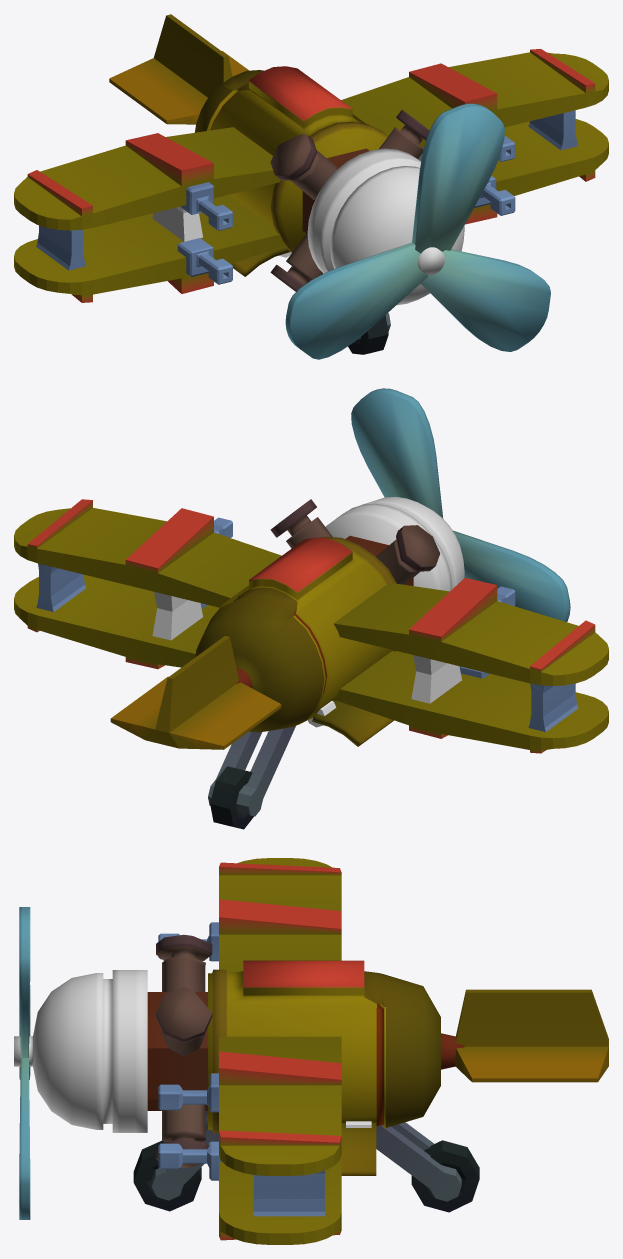
File: самолет 3.fbx
3 renders of one model, top to bottom at view 1: azimuth 30°, elevation 25°; view 2: azimuth 150°, elevation 25°; view 3: azimuth 270°, elevation 25°, orthographic. The views are drawn at different scales.
Parts seen in each view (by area): view 1: Cube.036, Cube.039, Cylinder.024, Cylinder.022, Cube.040, Cylinder.023, Cube.041, Cube.037, Cube.038, Cylinder.032, Cube.035, Cylinder.026; view 2: Cube.036, Cylinder.024, Cube.039, Cube.040, Cylinder.022, Cylinder.027, Cylinder.023, Cube.037, Cube.038, Cylinder.026, Cube.041; view 3: Cube.036, Cylinder.024, Cylinder.022, Cube.040, Cylinder.023, Cylinder.027, Cube.035, Cube.039, Cube.041, Cylinder.032, Cube.037, Cylinder.025.
Boxes of the visible parts, x1,y1,x2,y2 form: Cube.036: (14,49,608,302); Cube.039: (285,103,550,359); Cylinder.024: (195,66,388,252); Cylinder.022: (307,148,464,305); Cube.040: (109,14,248,124); Cylinder.023: (270,110,429,291); Cube.041: (177,136,515,284); Cube.037: (36,110,578,270); Cube.038: (152,147,424,241); Cylinder.032: (348,313,390,354); Cube.035: (302,148,369,233); Cylinder.026: (231,245,289,276); Cube.036: (14,499,608,753); Cylinder.024: (195,536,396,732); Cube.039: (351,388,570,621); Cube.040: (110,636,281,749); Cylinder.022: (325,497,464,591); Cylinder.027: (208,726,295,829); Cylinder.023: (270,499,440,584); Cube.037: (36,563,578,731); Cube.038: (152,592,461,703); Cylinder.026: (312,700,393,746); Cube.041: (200,517,515,678); Cube.036: (219,858,341,1244); Cylinder.024: (208,960,464,1133); Cylinder.022: (14,970,147,1132); Cube.040: (455,989,608,1082); Cylinder.023: (156,934,212,1168); Cylinder.027: (376,1122,479,1212); Cube.035: (147,992,207,1110); Cube.039: (19,907,30,1219); Cube.041: (158,922,221,1180); Cylinder.032: (133,1111,218,1211); Cube.037: (253,1170,324,1216); Cylinder.025: (341,1123,376,1175).
Size of the model in its own units: 924 by 439 by 758.
